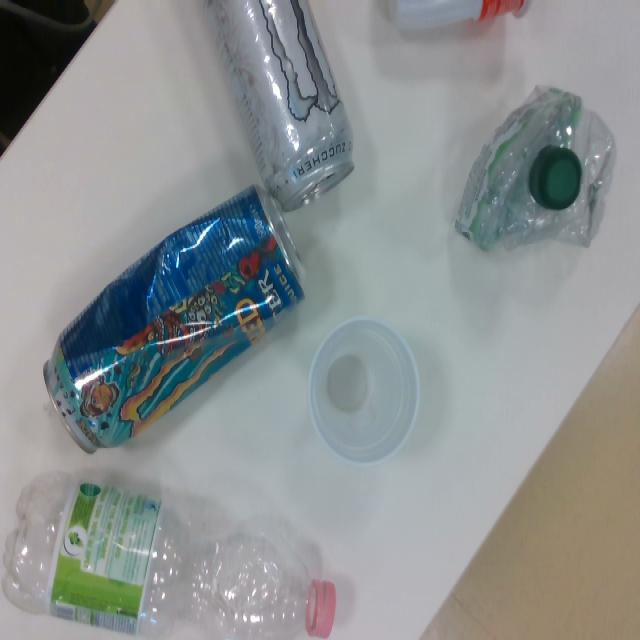aluminum: (39, 180, 312, 460), (198, 0, 360, 211)
plastic: (0, 473, 340, 640), (447, 81, 621, 269), (307, 314, 422, 468)
